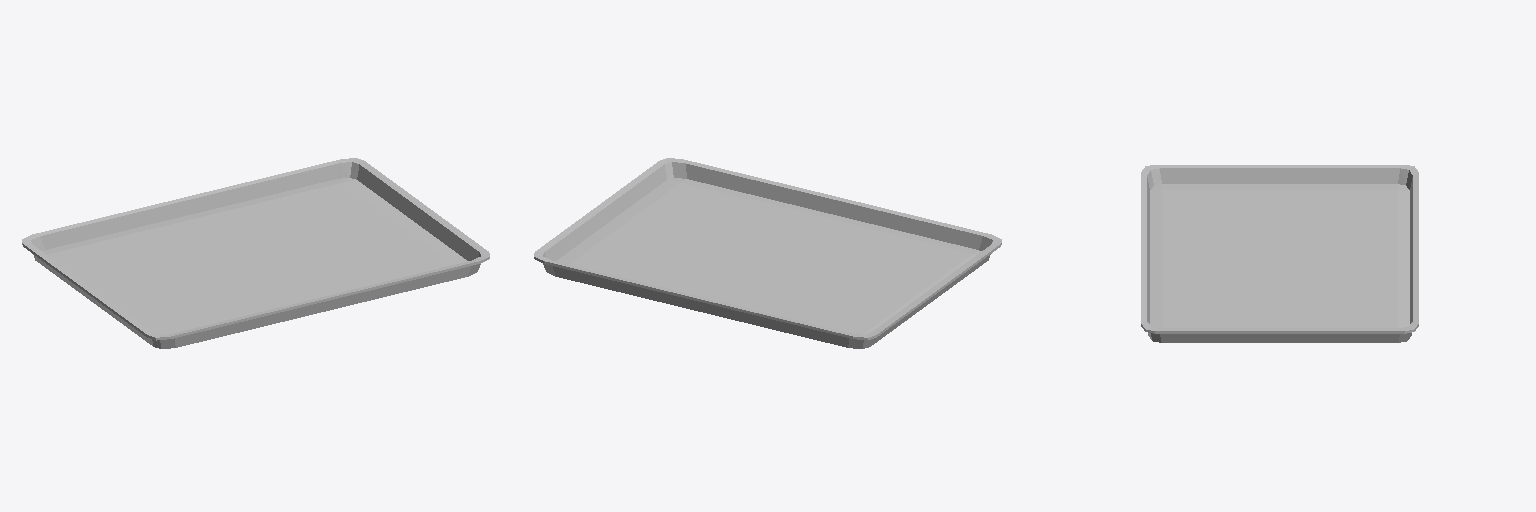
File: bakingTray 2.obj
3 views of the same model, side by side, from view 1: azimuth 30°, elevation 25°; view 2: azimuth 150°, elevation 25°; view 3: azimuth 270°, elevation 25° (orthographic).
Bounding box in the file's own units: 3.2 × 0.1457 × 2.26.